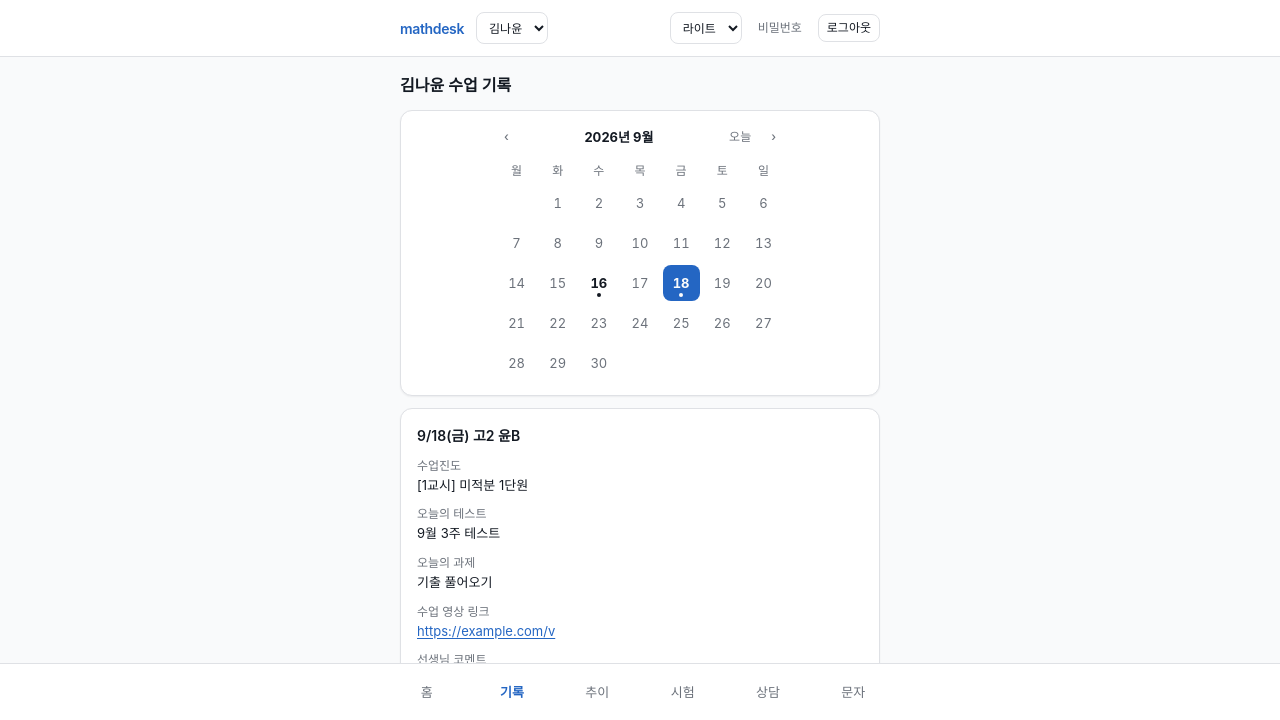
Test: PortalApp › opens the calendar on the latest recorded day and switches days
This screenshot has width=1280, height=720.
Check: the button "16" is shown, box [580, 265, 617, 301]
Click the button named "9월 17일": (640, 283) [621, 265, 658, 301]
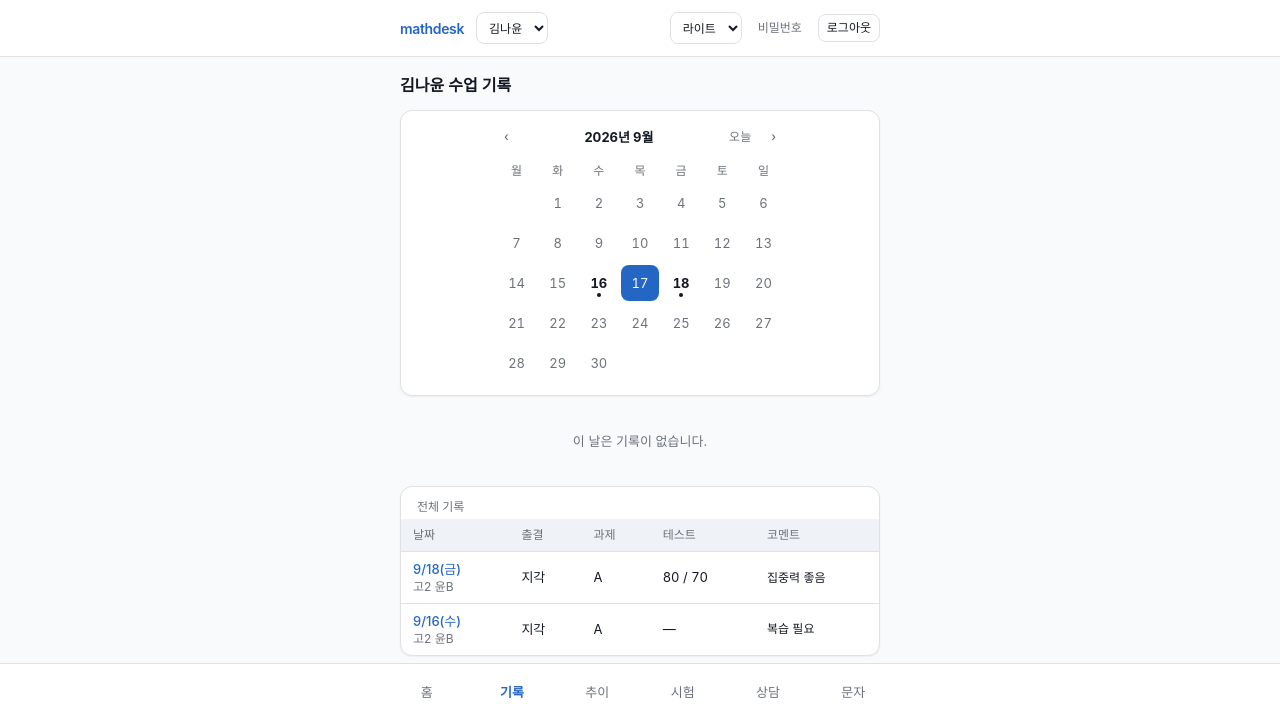
Check: the text "이 날은 기록이 없습니다." is shown, box [573, 433, 707, 449]
